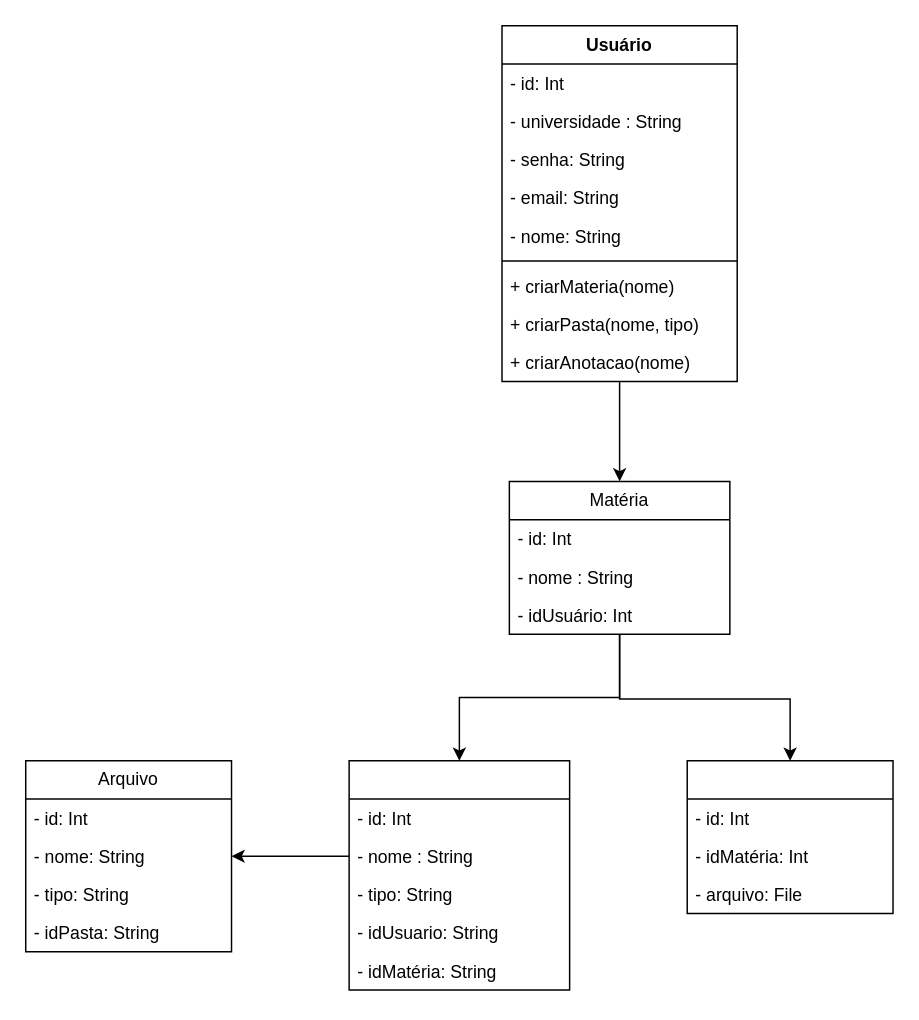
Image size: 919x1020. Some labels were removed from this diagram. Here are the shapes that lost their labels. From the top down, the box of each, then its label:
(686, 759, 893, 914): Anotação
(348, 759, 570, 990): Pasta
